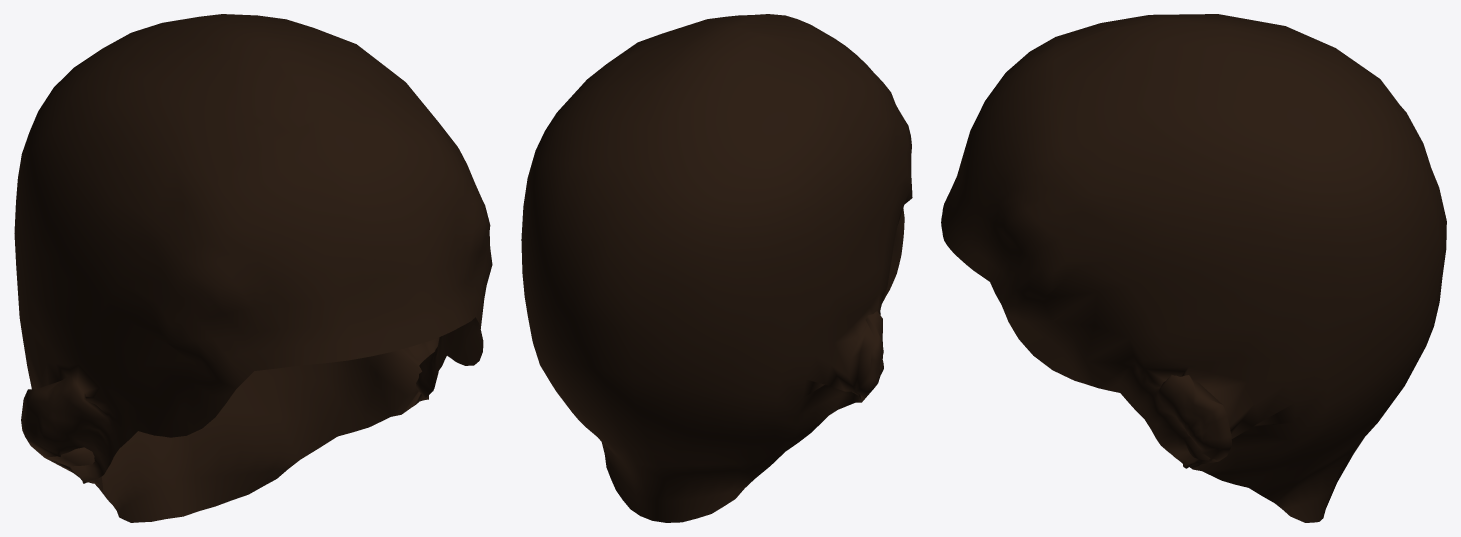
File: hair_side_part.glb
The picture shows the model from 3 angles, left to right: view 1: azimuth 30°, elevation 25°; view 2: azimuth 150°, elevation 25°; view 3: azimuth 270°, elevation 25°; orthographic projection. The views are drawn at different scales.
Parts seen in each view (by area): view 1: hair_side_part; view 2: hair_side_part; view 3: hair_side_part.
Part boxes in pixels (x1,y1,x2,y2): hair_side_part: [14, 14, 492, 522]; hair_side_part: [521, 14, 912, 522]; hair_side_part: [941, 14, 1446, 522].
Bounding box in the file's own units: 0.1987 × 0.243 × 0.2282.
